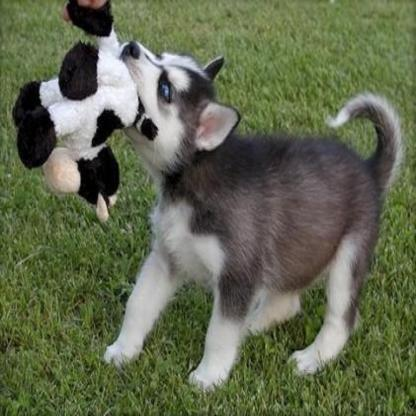dog: (106, 41, 401, 391)
